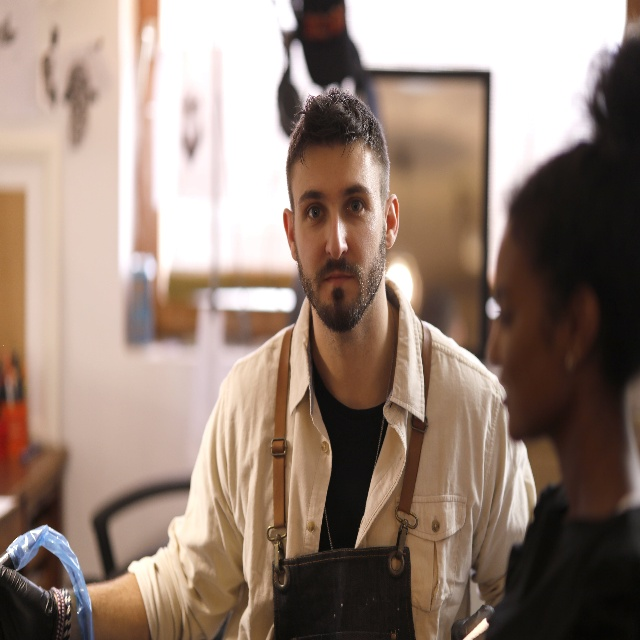Guantes: (0, 563, 59, 640)
